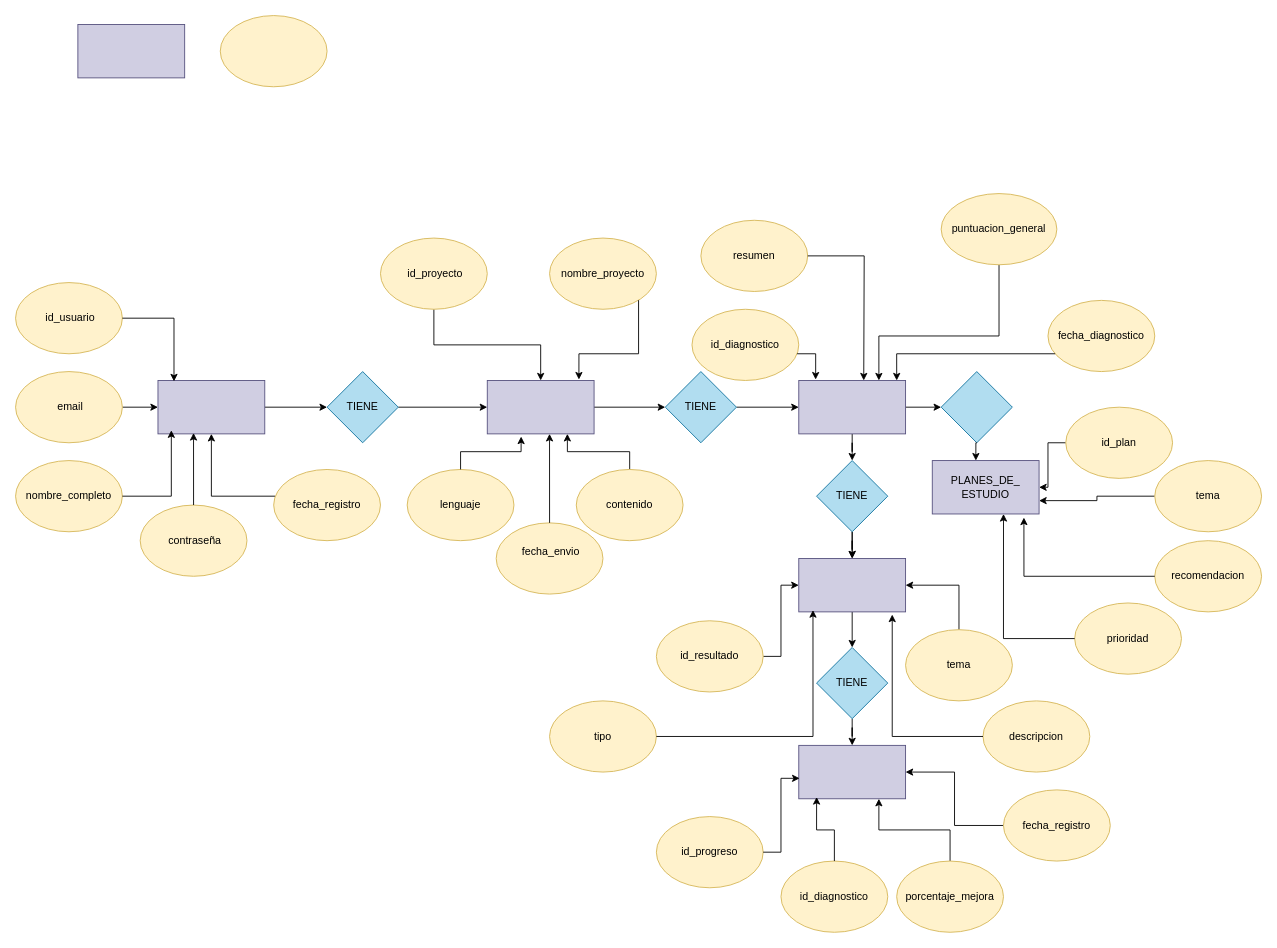
Image size: 1277x948. Some labels were removed from this diagram. Here are the shapes that lost their labels. From the top down, the centre of each, then its label:
At (131,51): "ENTIDADES".
At (273,51): "ATRIBUTOS".
At (211,407): "USUARIOS".
At (540,407): "PROYECTOS".
At (852,407): "DIAGNOSTICO".
At (976,407): "GENERA".
At (852,585): "RESULTADO".
At (852,771): "PROGRESO".
